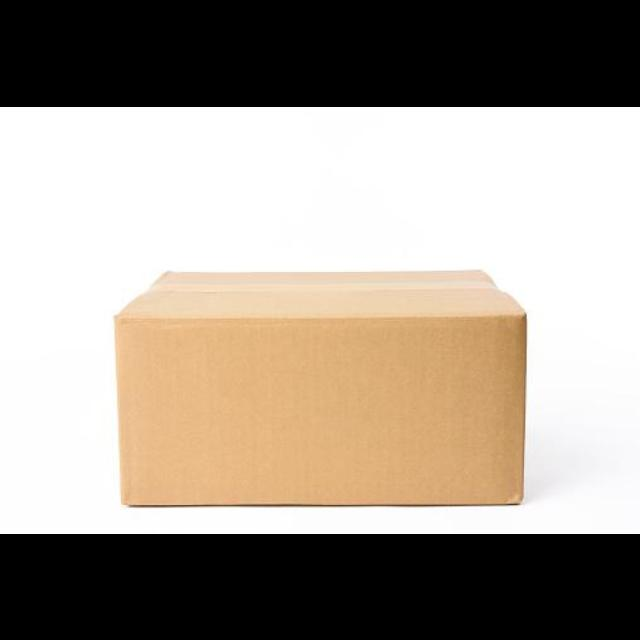box: (112, 267, 530, 505)
